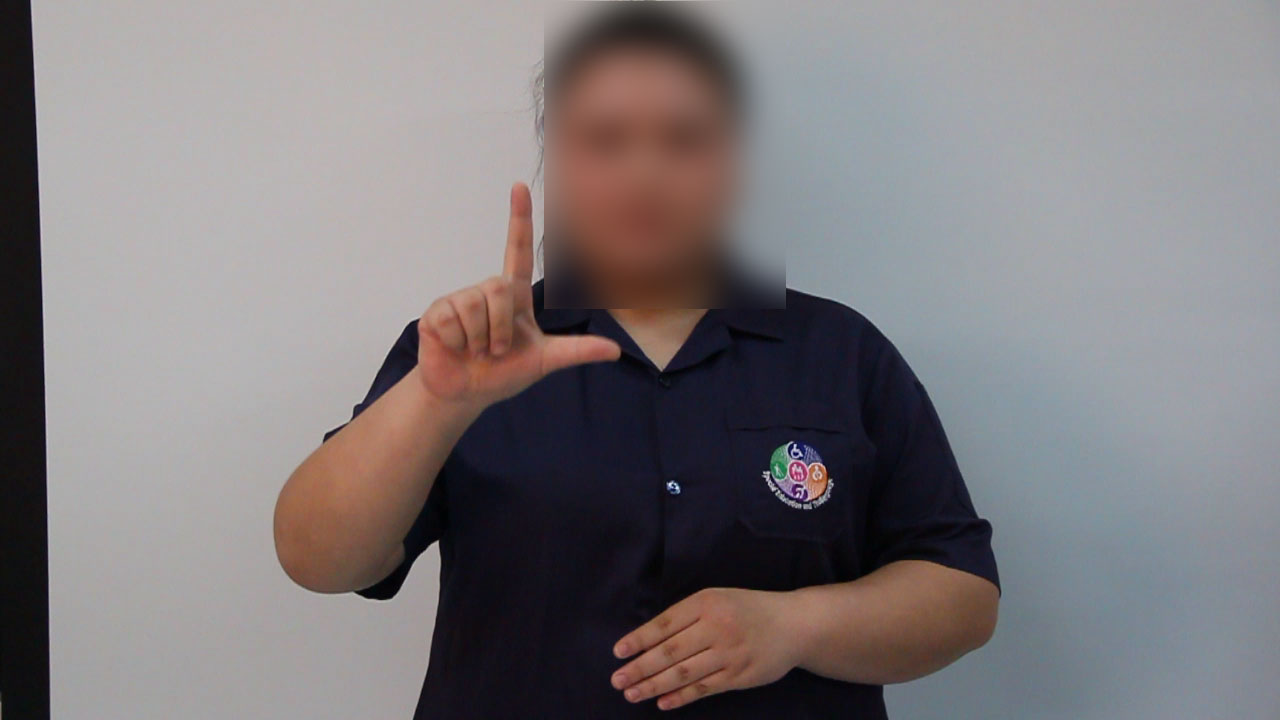lor: (405, 172, 635, 428)
